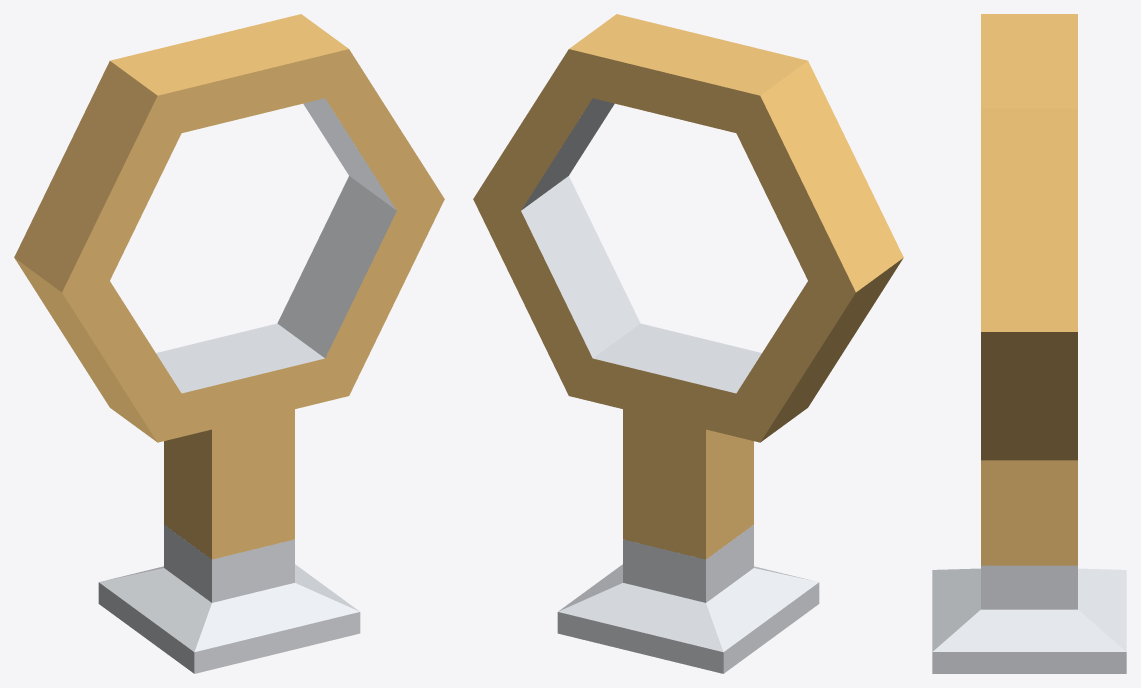
Rendered from pipe_ringSupport.glb.
The picture shows the model from 3 angles, left to right: view 1: azimuth 30°, elevation 25°; view 2: azimuth 150°, elevation 25°; view 3: azimuth 270°, elevation 25°; orthographic projection.
Parts seen in each view (by area): view 1: pipe_ringSupport; view 2: pipe_ringSupport; view 3: pipe_ringSupport.
Part boxes in pixels (x1,y1,x2,y2): pipe_ringSupport: (14,14,444,673); pipe_ringSupport: (473,14,903,673); pipe_ringSupport: (932,14,1126,673).
Size of the model in its own units: 0.9238 by 1.3 by 0.4.
